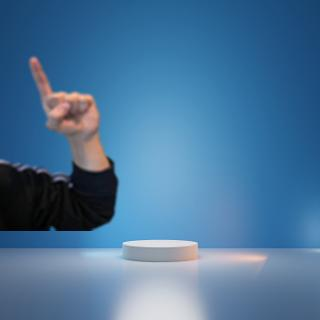IRRITATED: (25, 54, 102, 139)
